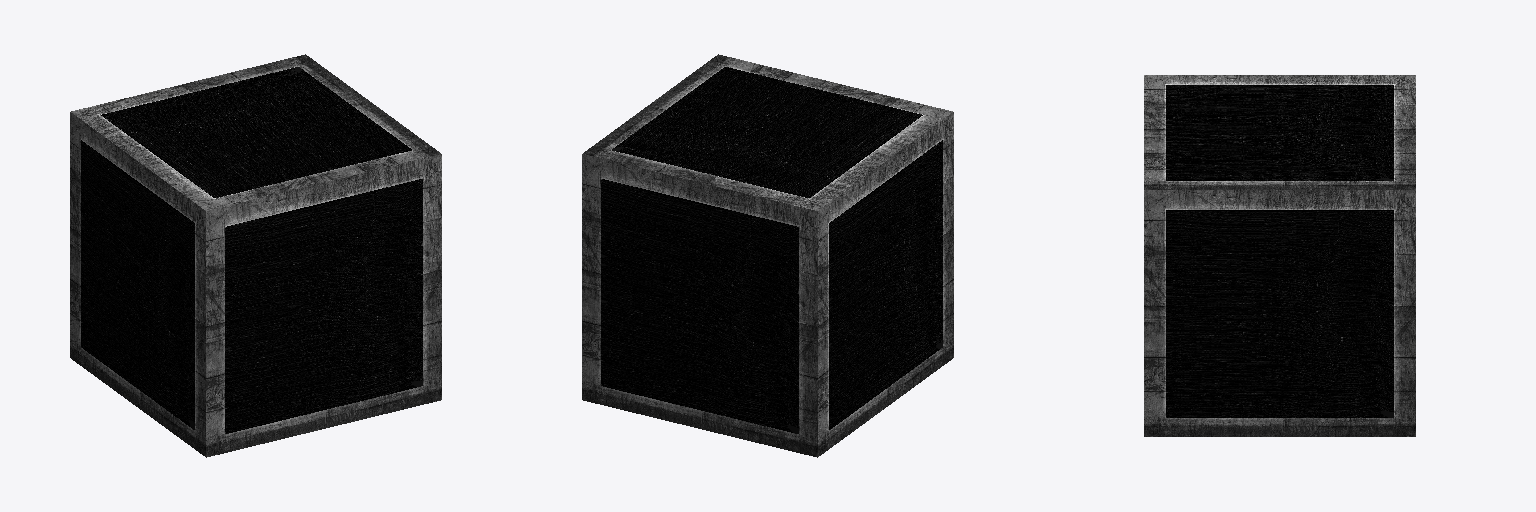
3 views of the same model, side by side, from view 1: azimuth 30°, elevation 25°; view 2: azimuth 150°, elevation 25°; view 3: azimuth 270°, elevation 25° (orthographic).
Visible parts, largest first — view 1: Cube; view 2: Cube; view 3: Cube.
Part boxes in pixels (bbox=[...]): Cube: bbox=[70, 54, 441, 457]; Cube: bbox=[582, 54, 953, 457]; Cube: bbox=[1144, 75, 1415, 436].
Size of the model in its own units: 2 by 2 by 2.
1 materials, 1 textured.